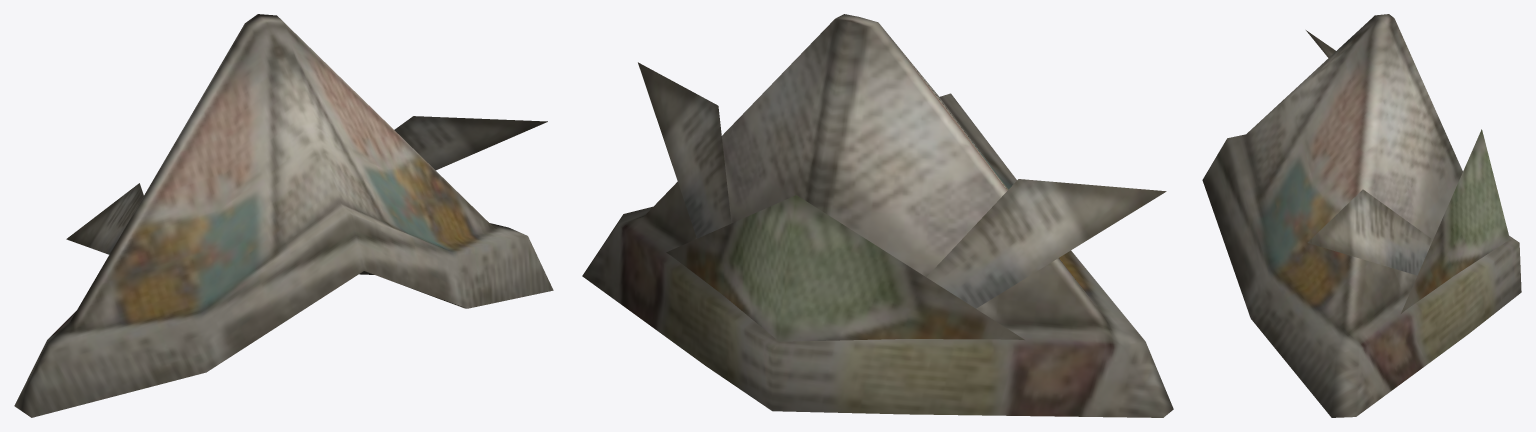
The model's file is paperHat.glb.
3 views of the same model, side by side, from view 1: azimuth 30°, elevation 25°; view 2: azimuth 150°, elevation 25°; view 3: azimuth 270°, elevation 25° (orthographic). The views are drawn at different scales.
Visible parts, largest first — view 1: paperHat; view 2: paperHat; view 3: paperHat.
Part boxes in pixels (box(x1,y1,x2,y2)): paperHat: box(14, 14, 553, 417); paperHat: box(582, 14, 1173, 417); paperHat: box(1202, 14, 1521, 417).
Bounding box in the file's own units: 0.2844 × 0.1615 × 0.1641.
Materials: 1 (1 with a texture image).
